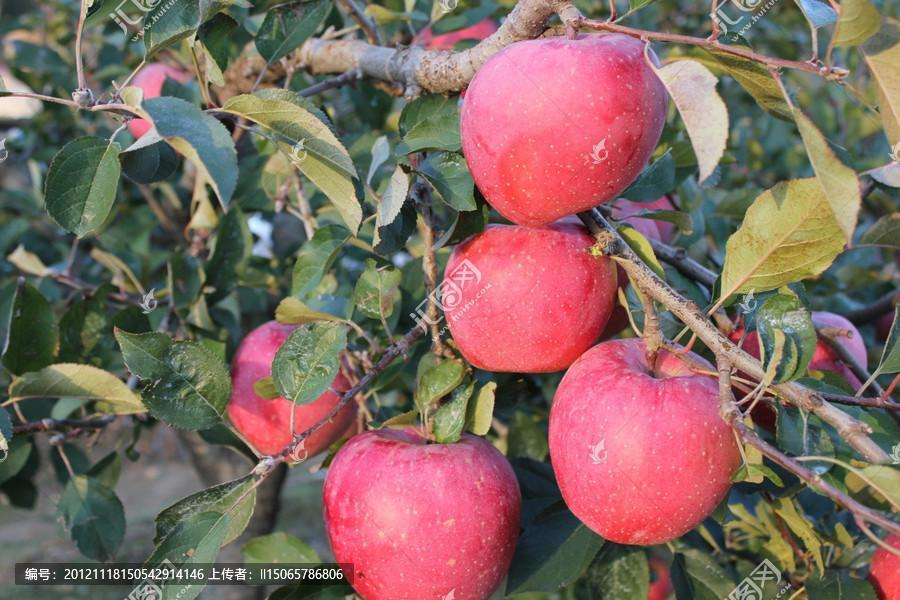apple: (454, 31, 664, 223), (549, 337, 741, 542), (322, 428, 529, 597), (440, 226, 616, 374), (221, 315, 363, 465)
